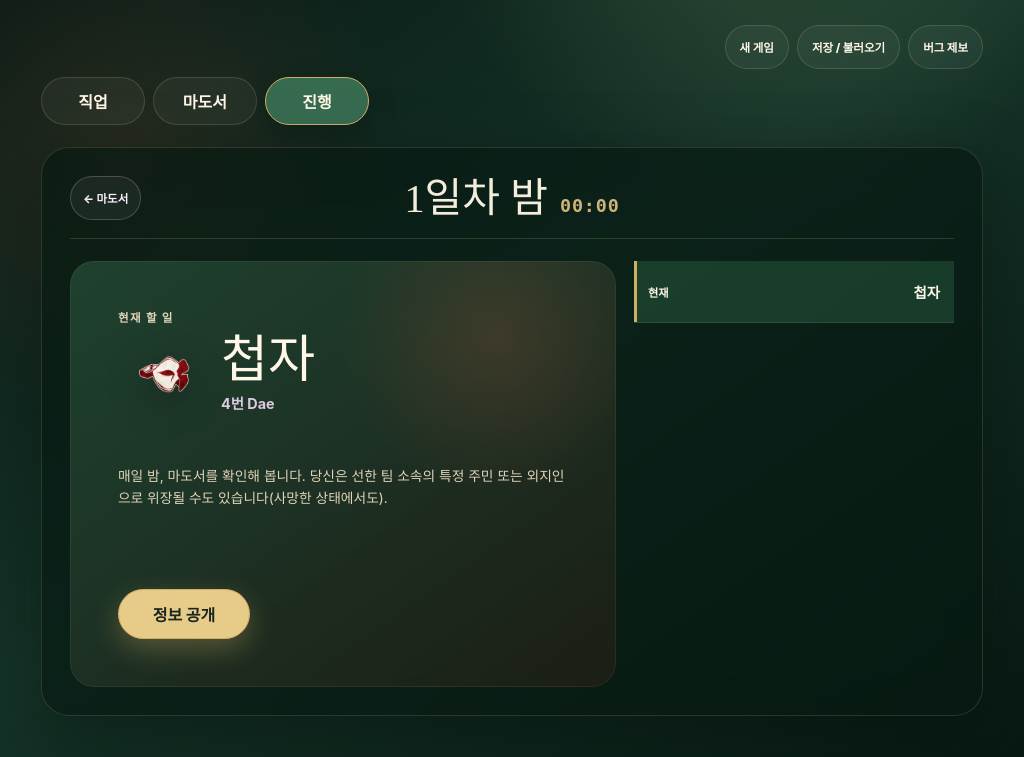
Test: opens the locked Spy Grimoire from the proposal while canonical replay gates confirmation
The width and height of the screenshot is (1024, 757).
(page scrolled)
Expected: the heading named "첩자: 4번 Dae" is shown, [221,334,315,386]
Click the button "정보 공개".
click(184, 614)  # box [118,589,250,639]
(page scrolled)
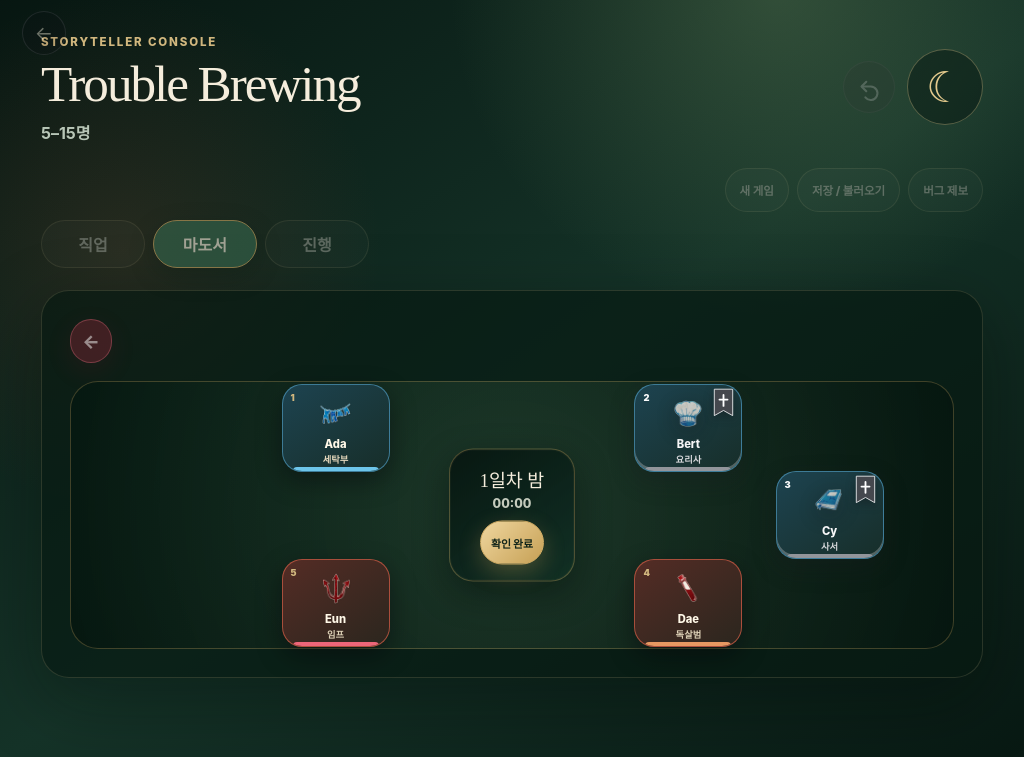
Expected: the button "확인 완료" is enabled, [480,521,544,565]
Result: the button "확인 완료" is shown at [480,521,544,565]
Result: the button with aria-label "2번 좌석" is shown at [634,384,742,472]
